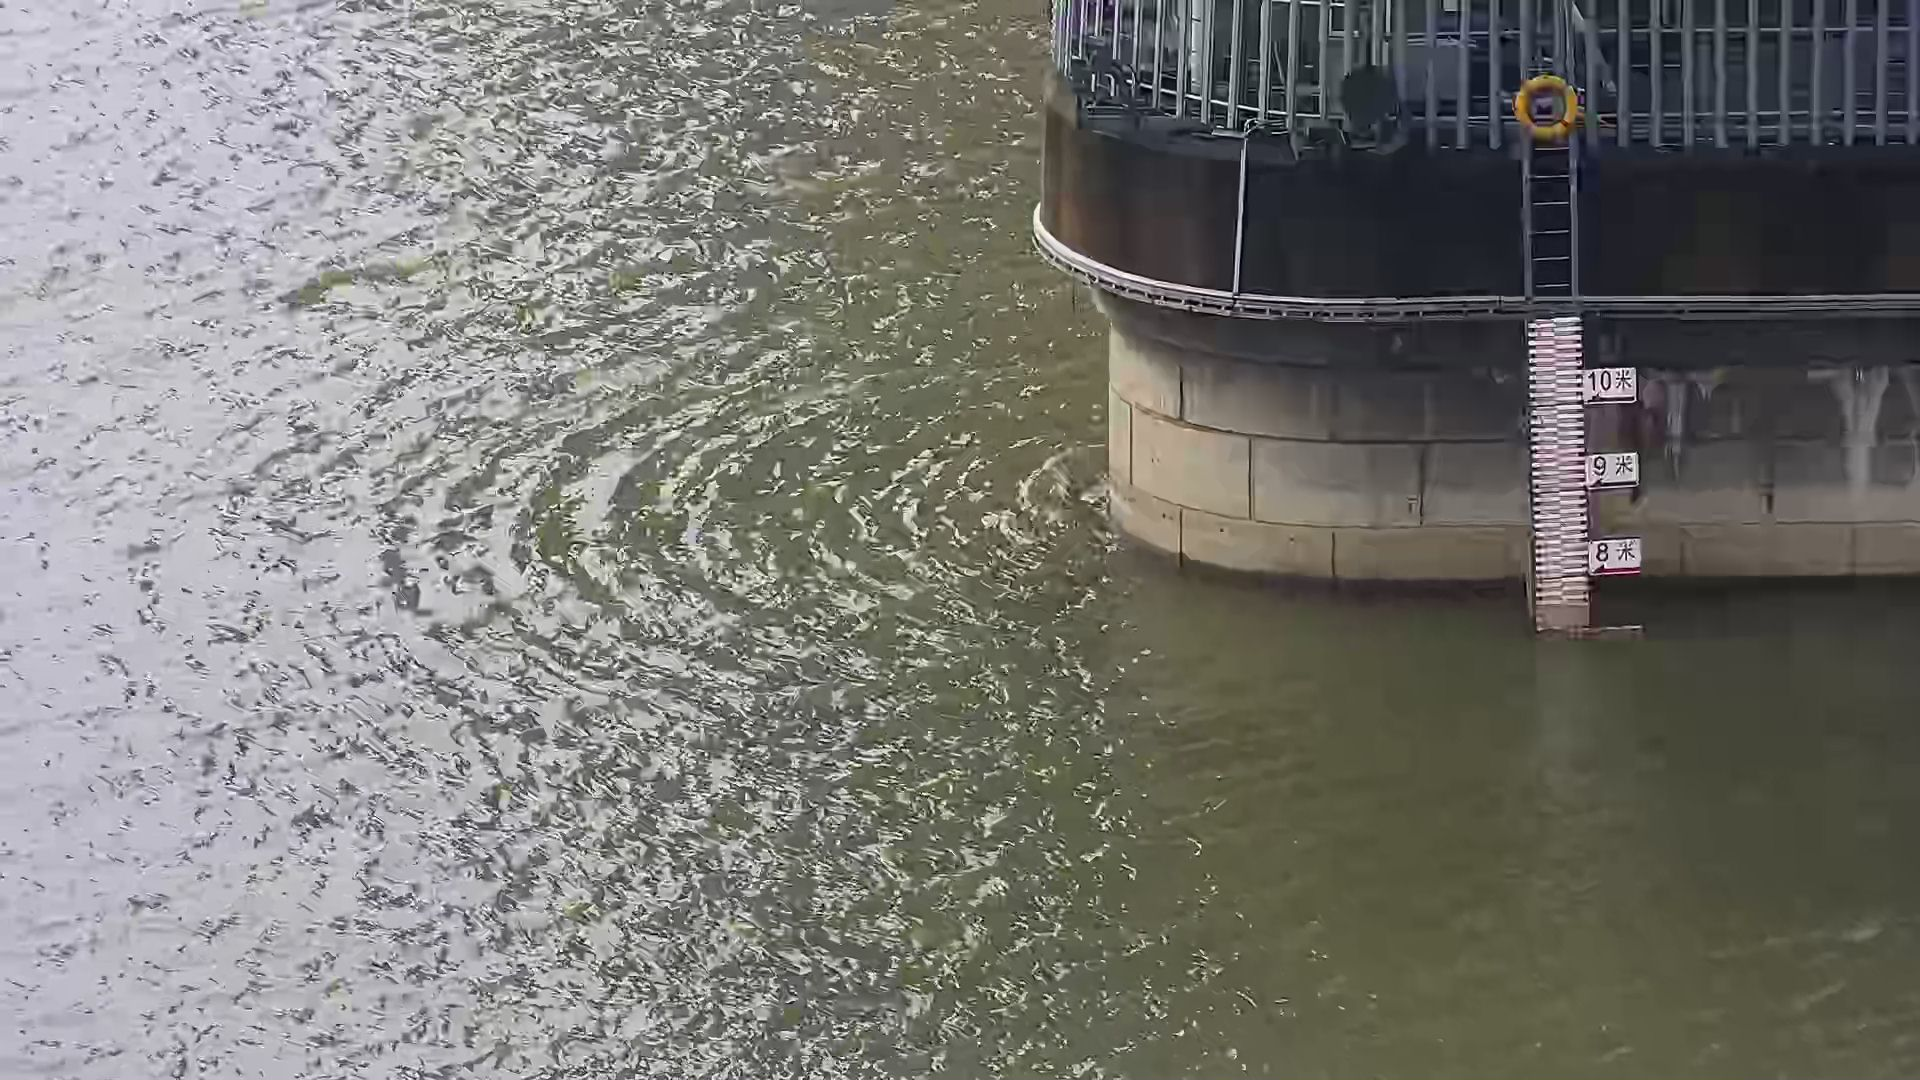bridge: (1004, 1, 1920, 642)
